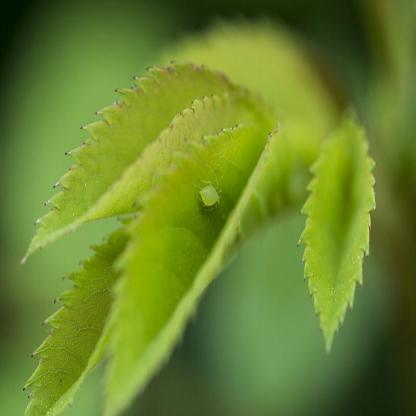aphid: (194, 168, 226, 217)
